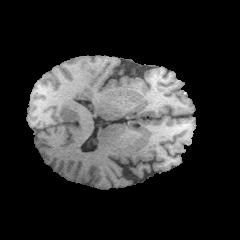glioma: (59, 80, 114, 122)
